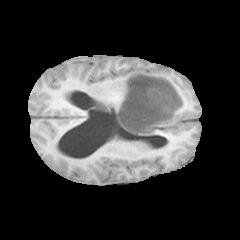glioma: (107, 68, 184, 135)
